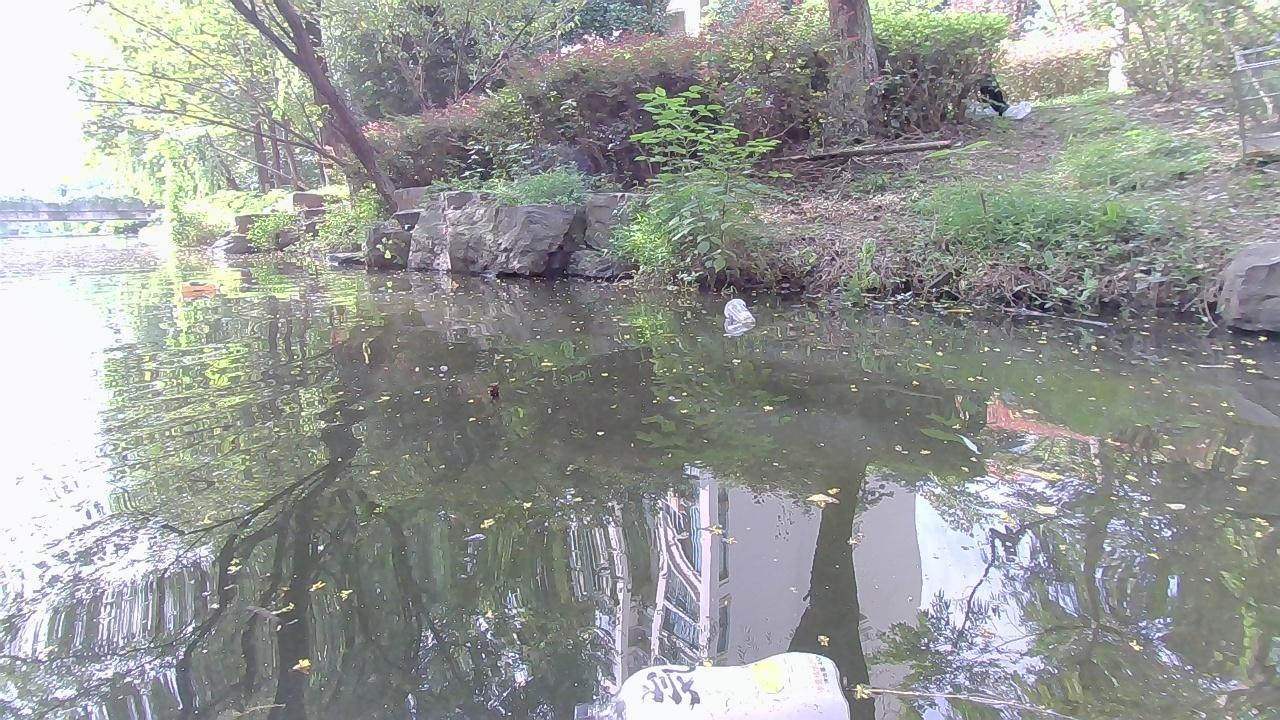bottle: (722, 296, 757, 327), (176, 277, 221, 295)
